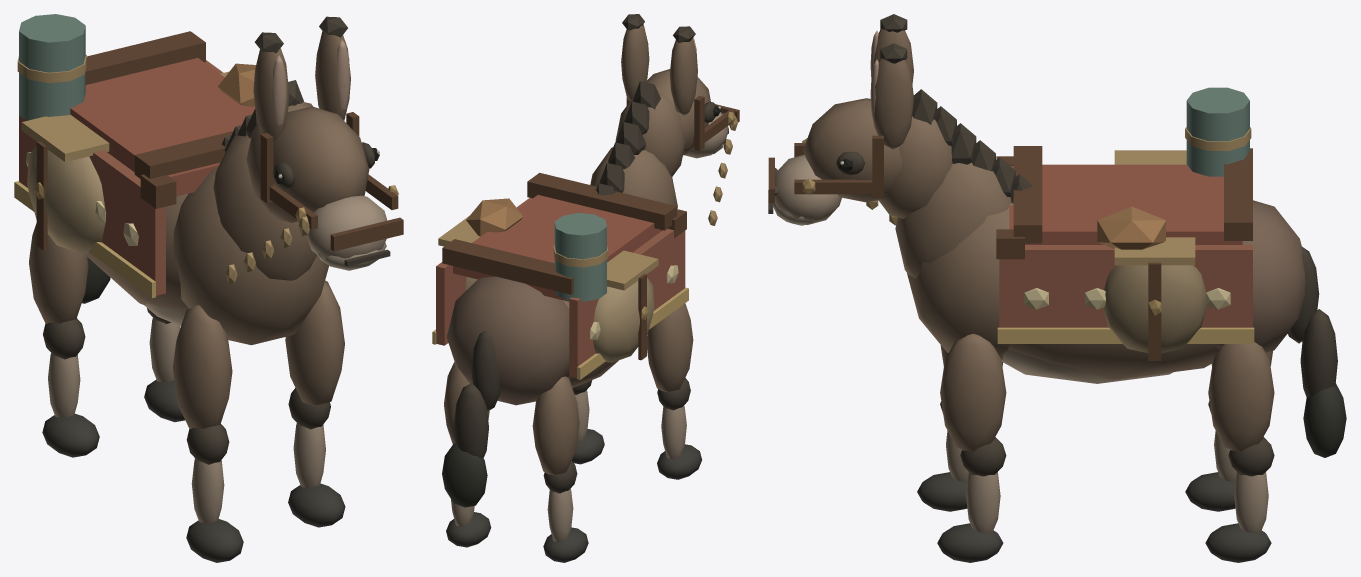
File: city-mule.glb
3 renders of one model, left to right at view 1: azimuth 30°, elevation 25°; view 2: azimuth 150°, elevation 25°; view 3: azimuth 270°, elevation 25°, orthographic. The views are drawn at different scales.
Visible parts, largest first — view 1: pack-body-mesh, pack-head-mesh, pack-leg--1-1-mesh, pack-leg-1-1-mesh, pack-neck-mesh, pack-leg--1--1-mesh, pack-leg-1--1-mesh, pack-tail-mesh; view 2: pack-body-mesh, pack-neck-mesh, pack-head-mesh, pack-leg--1--1-mesh, pack-tail-mesh, pack-leg--1-1-mesh, pack-leg-1--1-mesh, pack-leg-1-1-mesh; view 3: pack-body-mesh, pack-head-mesh, pack-neck-mesh, pack-leg-1-1-mesh, pack-leg-1--1-mesh, pack-tail-mesh, pack-leg--1-1-mesh, pack-leg--1--1-mesh.
Part boxes in pixels (bbox=[...]): pack-body-mesh: bbox=[14, 14, 328, 345]; pack-head-mesh: bbox=[253, 16, 403, 270]; pack-leg--1-1-mesh: bbox=[172, 305, 243, 562]; pack-leg-1-1-mesh: bbox=[285, 280, 345, 527]; pack-neck-mesh: bbox=[213, 80, 316, 284]; pack-leg--1--1-mesh: bbox=[29, 223, 99, 457]; pack-leg-1--1-mesh: bbox=[144, 308, 184, 422]; pack-tail-mesh: bbox=[82, 257, 110, 303]; pack-body-mesh: bbox=[432, 172, 688, 405]; pack-neck-mesh: bbox=[590, 81, 738, 225]; pack-head-mesh: bbox=[621, 14, 739, 158]; pack-leg--1--1-mesh: bbox=[532, 376, 588, 562]; pack-tail-mesh: bbox=[442, 331, 500, 507]; pack-leg--1-1-mesh: bbox=[647, 303, 701, 479]; pack-leg-1--1-mesh: bbox=[444, 362, 491, 547]; pack-leg-1-1-mesh: bbox=[572, 380, 604, 464]; pack-body-mesh: bbox=[907, 87, 1305, 383]; pack-head-mesh: bbox=[768, 14, 913, 225]; pack-neck-mesh: bbox=[866, 89, 1031, 278]; pack-leg-1-1-mesh: bbox=[937, 333, 1006, 562]; pack-leg-1--1-mesh: bbox=[1205, 342, 1274, 562]; pack-tail-mesh: bbox=[1287, 246, 1346, 457]; pack-leg--1-1-mesh: bbox=[917, 345, 1002, 511]; pack-leg--1--1-mesh: bbox=[1185, 351, 1272, 511].
Size of the model in its own units: 0.9264 by 1.92 by 2.01.
